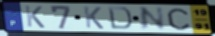7: (49, 5, 72, 30)
C: (166, 7, 192, 31)
D: (107, 6, 134, 31)
K: (82, 6, 105, 30), (23, 5, 46, 29)
N: (139, 6, 167, 32)
